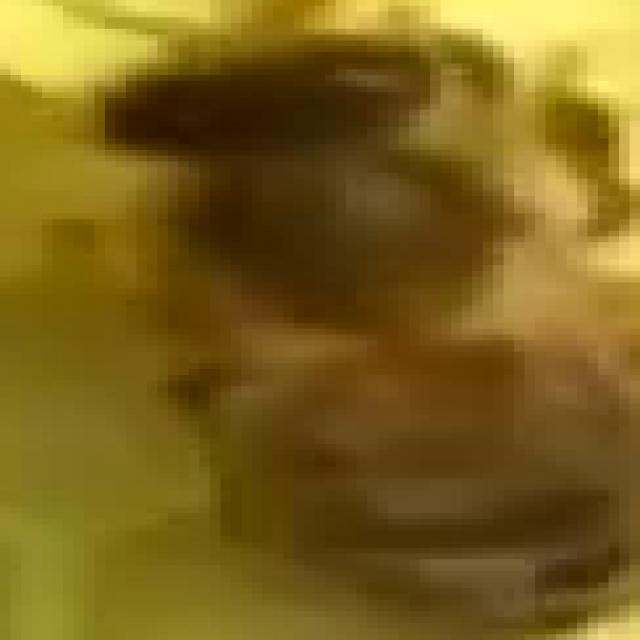honeybee: (99, 46, 640, 615)
